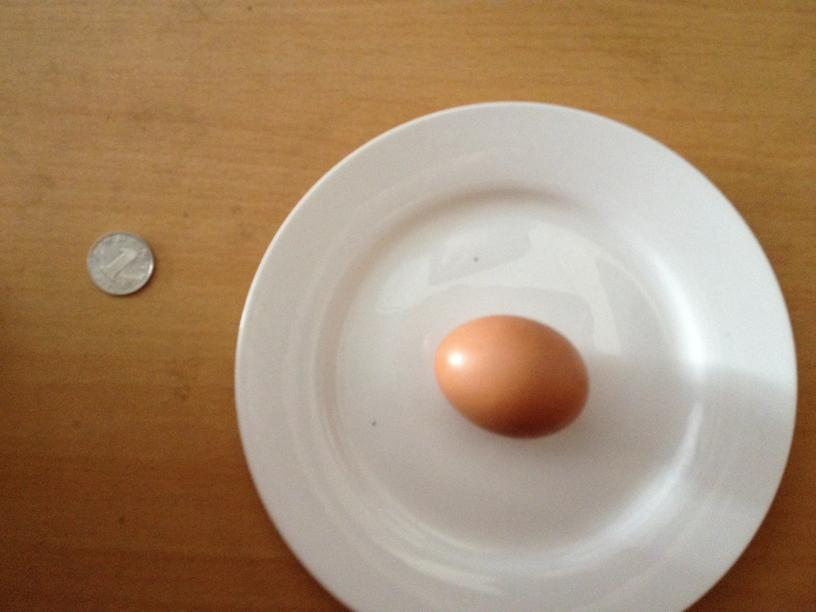coin: (84, 232, 154, 295)
egg: (430, 310, 588, 440)
